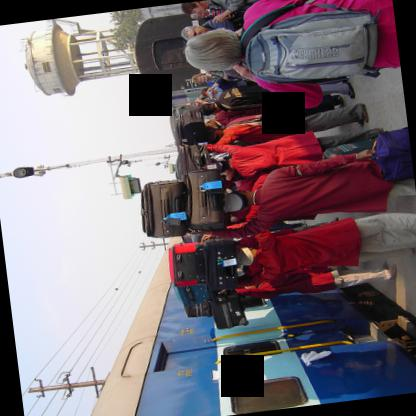backpack: (239, 1, 380, 84)
handbag: (365, 124, 413, 183), (234, 76, 250, 86), (208, 71, 224, 77)
suitcase: (181, 168, 231, 230), (142, 177, 187, 236), (372, 125, 414, 179), (202, 235, 237, 290), (167, 240, 203, 286), (168, 105, 205, 149), (174, 142, 212, 179), (322, 137, 376, 159), (210, 298, 248, 329), (172, 282, 208, 304), (181, 305, 211, 318)
